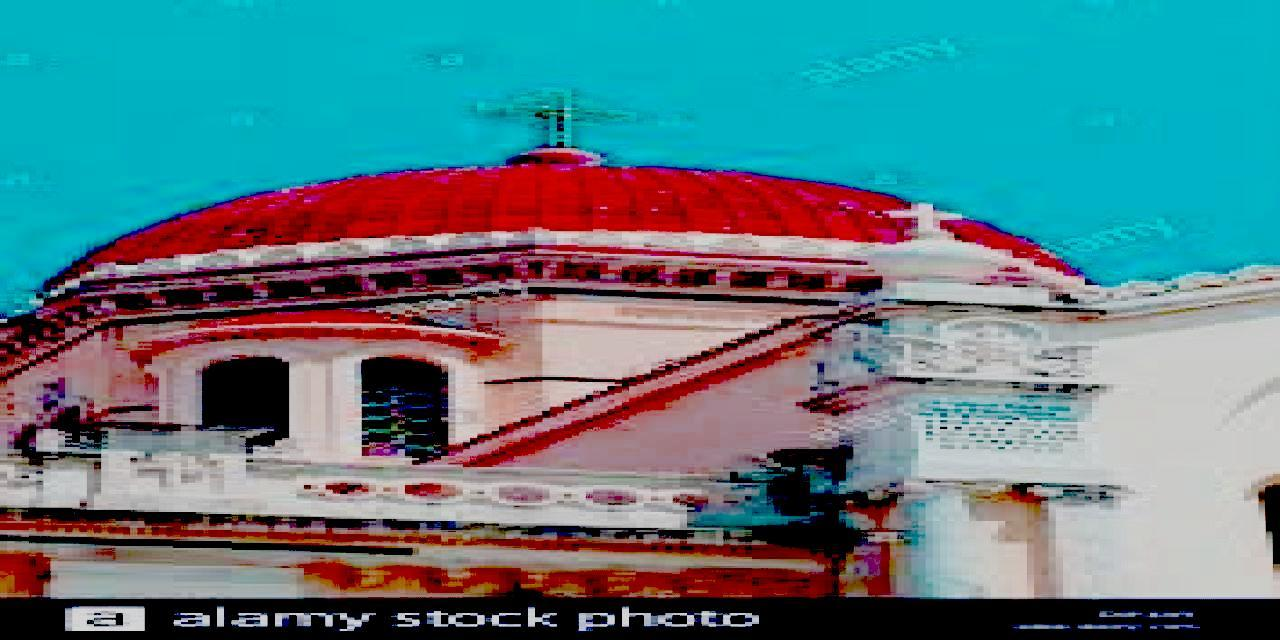Agios Minas: (1, 95, 1280, 600)
